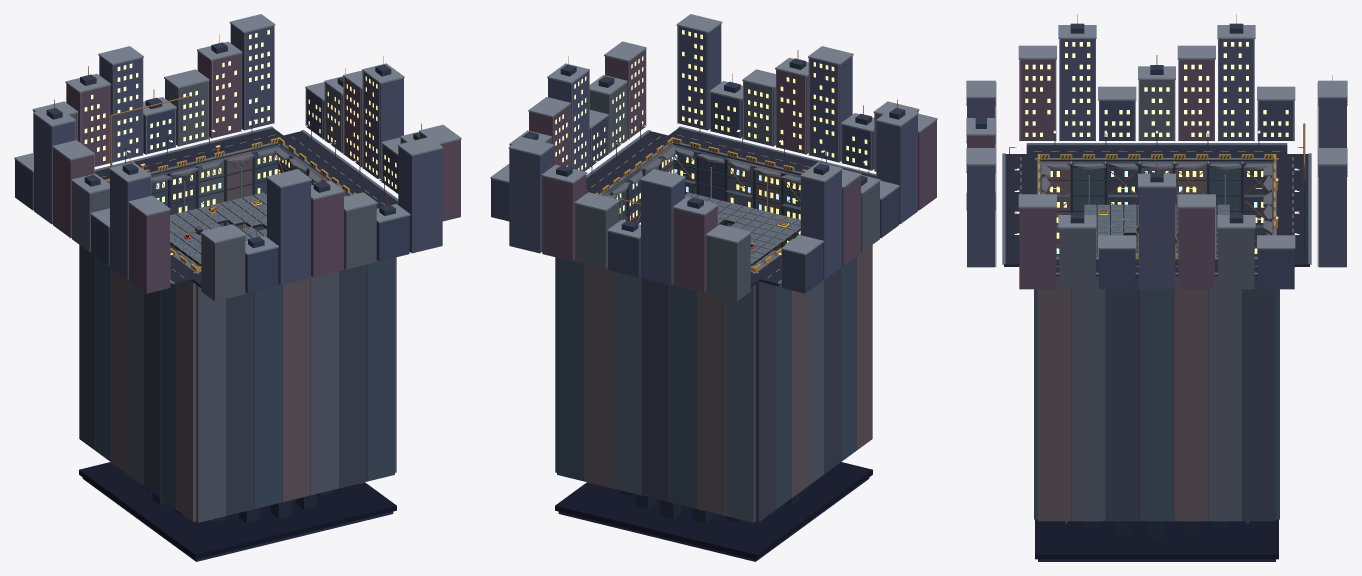
Rendered from cityscape-assembled.glb.
3 views of the same model, side by side, from view 1: azimuth 30°, elevation 25°; view 2: azimuth 150°, elevation 25°; view 3: azimuth 270°, elevation 25° (orthographic). The views are drawn at different scales.
Parts seen in each view (by area): view 1: facade_2, facade_1, rim_0, rim_2, rim_1, rim_3, deep_city, facade_0, facade_3, cityscape_assembled_arena; view 2: facade_0, facade_1, rim_0, rim_2, rim_1, rim_3, deep_city, facade_2, facade_3, cityscape_assembled_arena; view 3: facade_3, rim_1, rim_3, deep_city, rim_0, facade_1, rim_2, facade_0, facade_2, cityscape_assembled_arena.
Part boxes in pixels (x1,y1,x2,y2): facade_2: (196,257,394,522); facade_1: (79,245,197,521); rim_0: (32,14,288,183); rim_2: (190,137,443,301); rim_1: (14,99,200,293); rim_3: (277,56,461,221); deep_city: (79,462,396,559); facade_0: (151,144,281,251); facade_3: (273,144,396,472); cityscape_assembled_arena: (82,478,393,561); facade_0: (557,257,755,522); facade_1: (754,238,872,521); rim_0: (508,137,763,301); rim_2: (663,14,919,178); rim_1: (752,99,937,293); rim_3: (490,41,675,221); deep_city: (555,462,872,559); facade_2: (670,144,800,251); facade_3: (555,144,677,472); cityscape_assembled_arena: (558,478,869,561); facade_3: (1038,257,1275,521); rim_1: (1018,14,1295,161); rim_3: (1018,163,1295,289); deep_city: (1035,518,1278,559); rim_0: (1273,75,1347,267); facade_1: (1040,161,1273,257); rim_2: (966,80,1040,267); facade_0: (1263,162,1279,519); facade_2: (1034,163,1050,519); cityscape_assembled_arena: (1038,559,1275,561).
Bounding box in the file's own units: 67.2 × 82.35 × 67.2.
